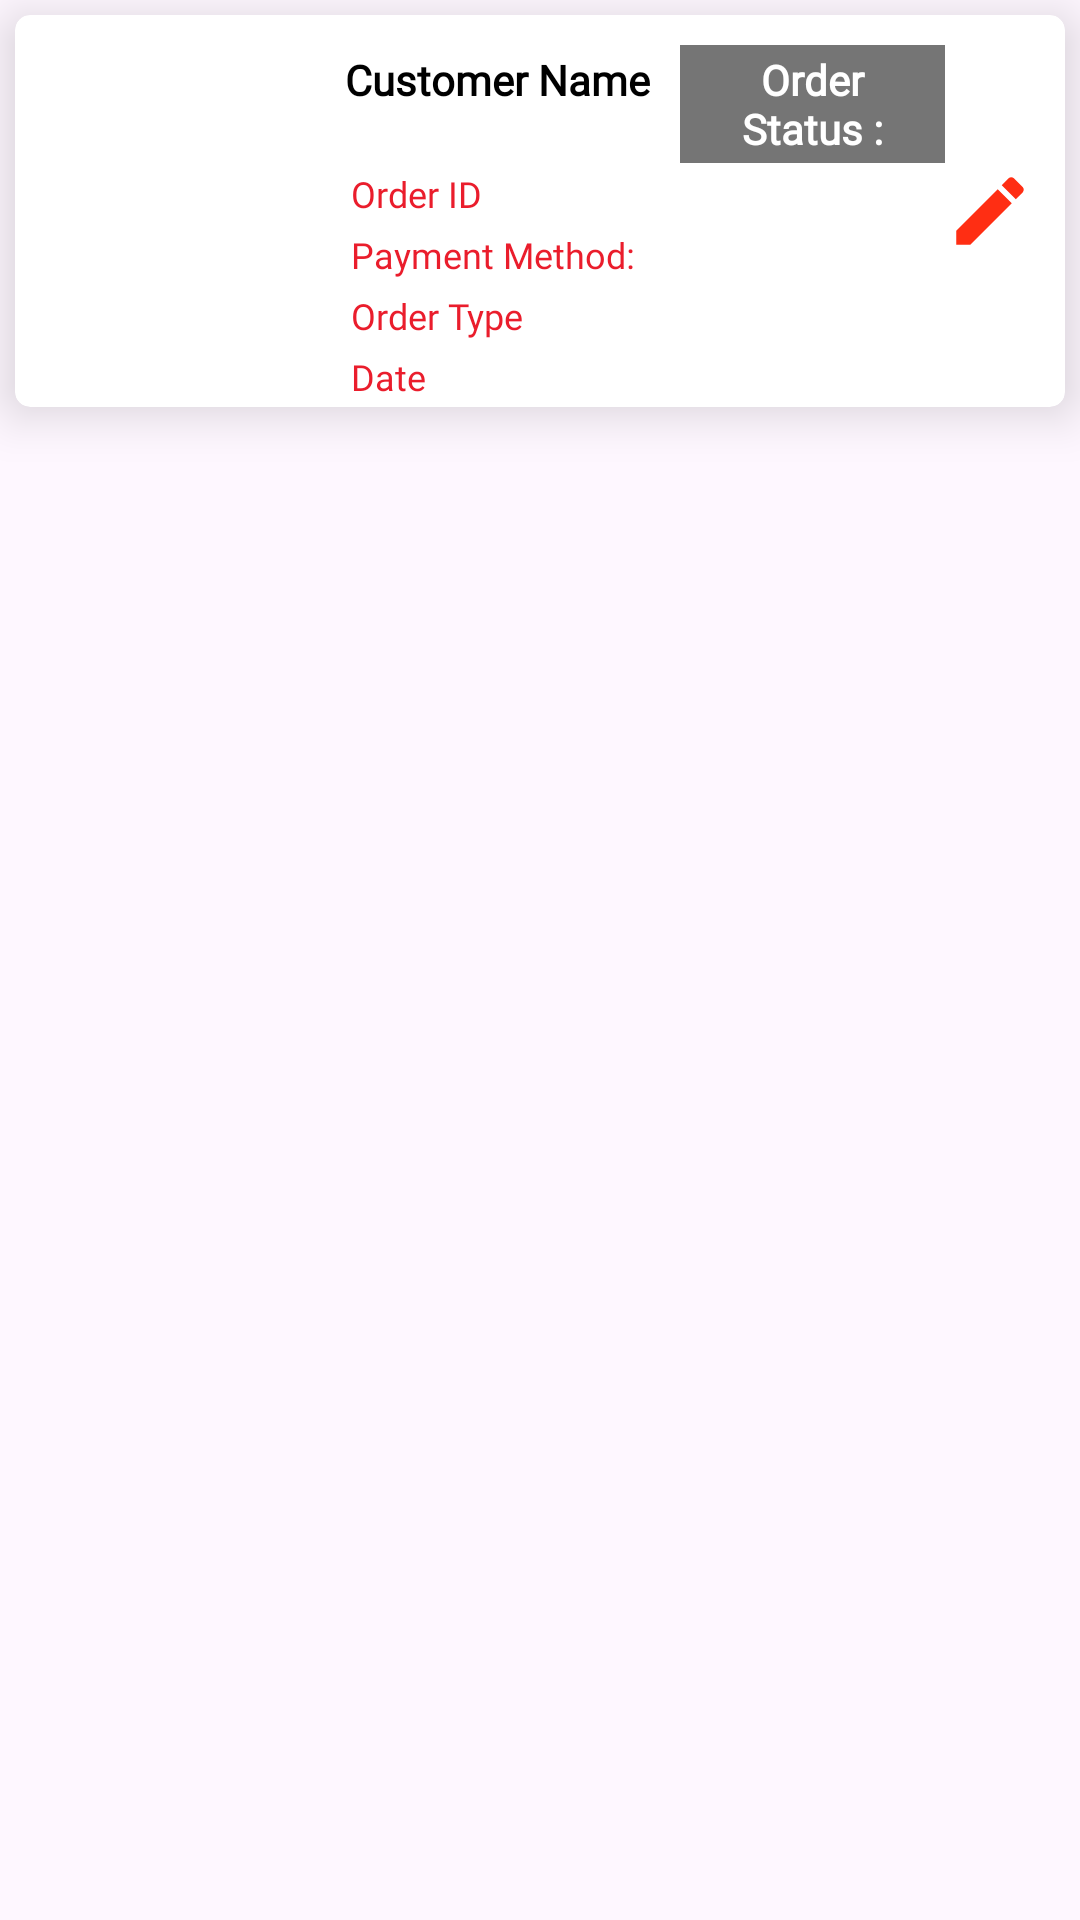

Where to tap for icons on this 1080×1920 app screen, as (x=x, y=y):
edit: (x=990, y=211)
